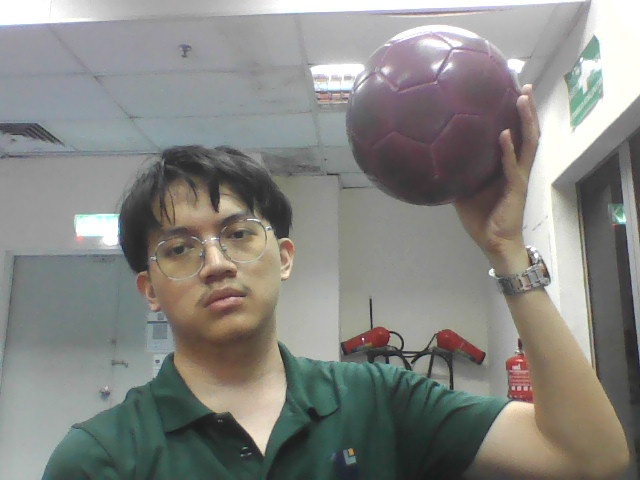Purple: (346, 24, 523, 205)
